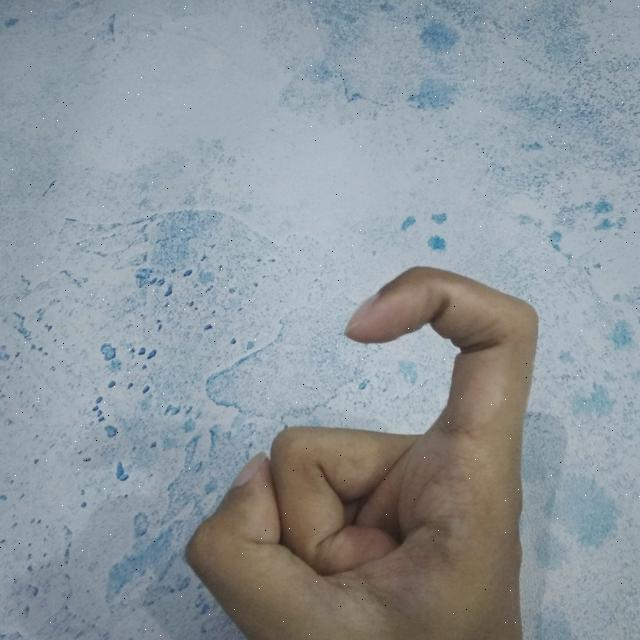X: (169, 255, 545, 640)
